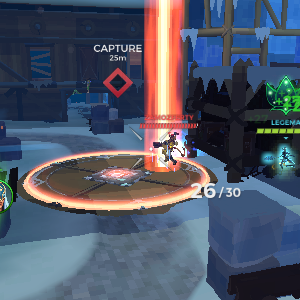model: (158, 130, 182, 166)
